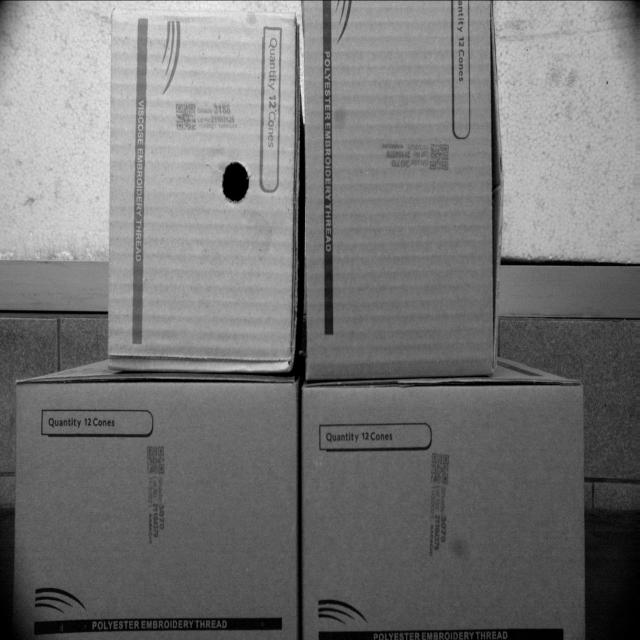cardboxes: (300, 0, 497, 373), (16, 380, 298, 639), (300, 383, 582, 639), (110, 8, 292, 366)
